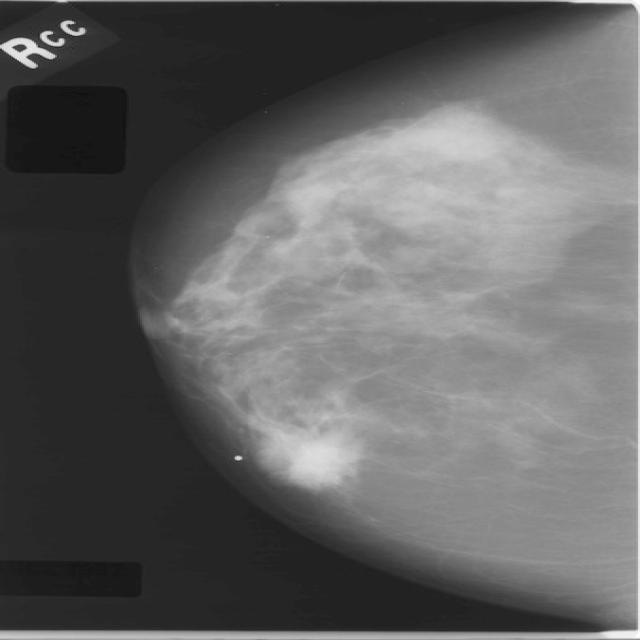tumour: (250, 418, 358, 492)
